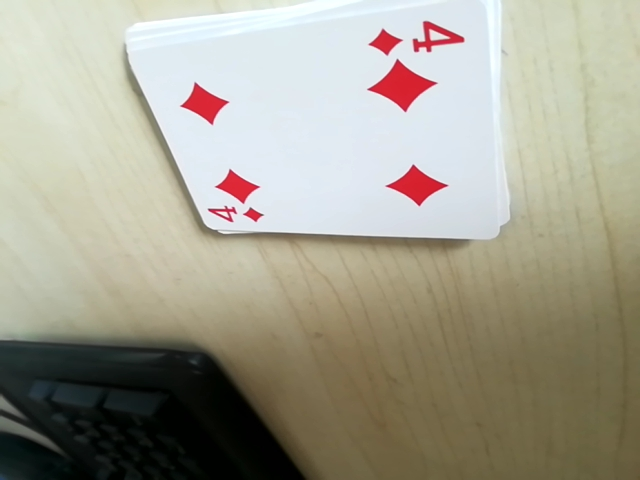fk 4: (369, 14, 472, 59), (203, 196, 267, 232)
